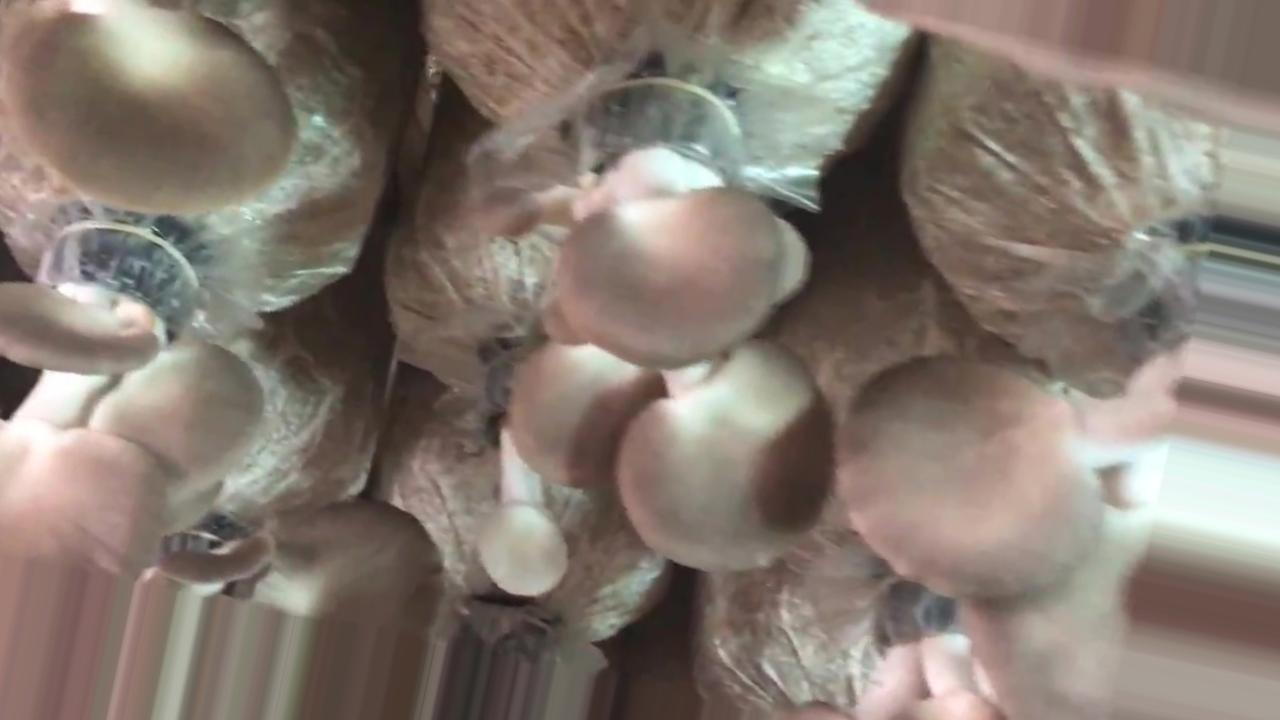nam: (512, 80, 837, 574), (841, 357, 1114, 720), (1, 223, 260, 574), (9, 1, 296, 217), (254, 504, 438, 633), (478, 349, 566, 599)
